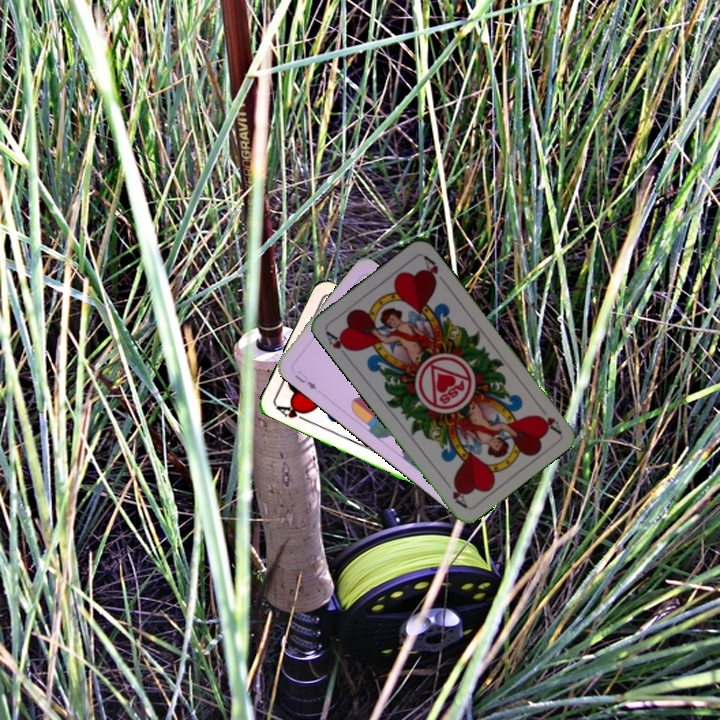EU: (291, 366, 320, 392)
HA: (321, 327, 356, 361), (534, 401, 563, 436), (271, 400, 311, 424)
